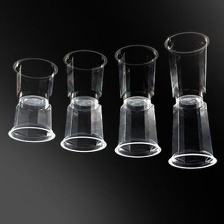glass: (165, 87, 220, 172), (159, 28, 215, 102), (111, 97, 163, 163), (56, 93, 109, 154), (111, 42, 162, 103), (6, 93, 56, 148), (60, 48, 109, 104), (10, 56, 60, 99)
